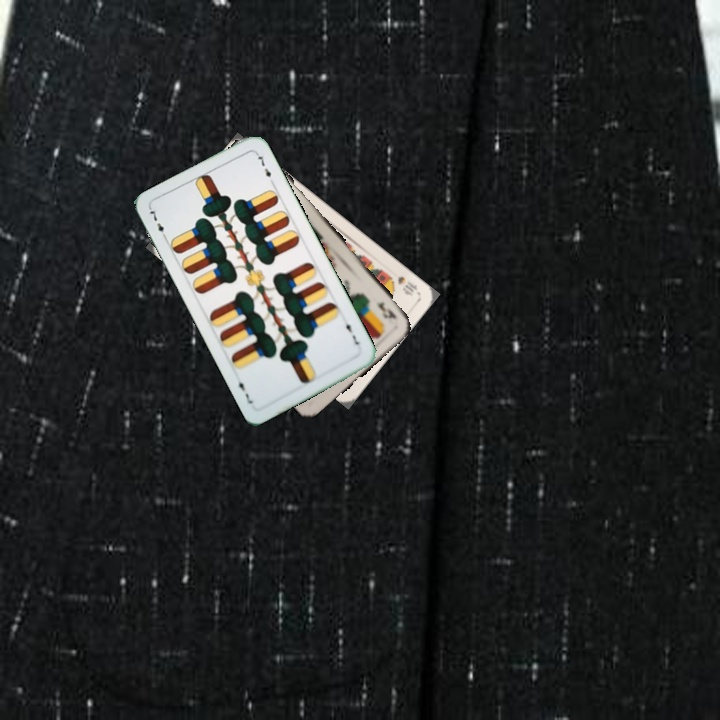E7: (144, 205, 170, 243), (341, 315, 362, 348)
EK: (372, 297, 399, 322)
S10: (393, 272, 421, 298)
